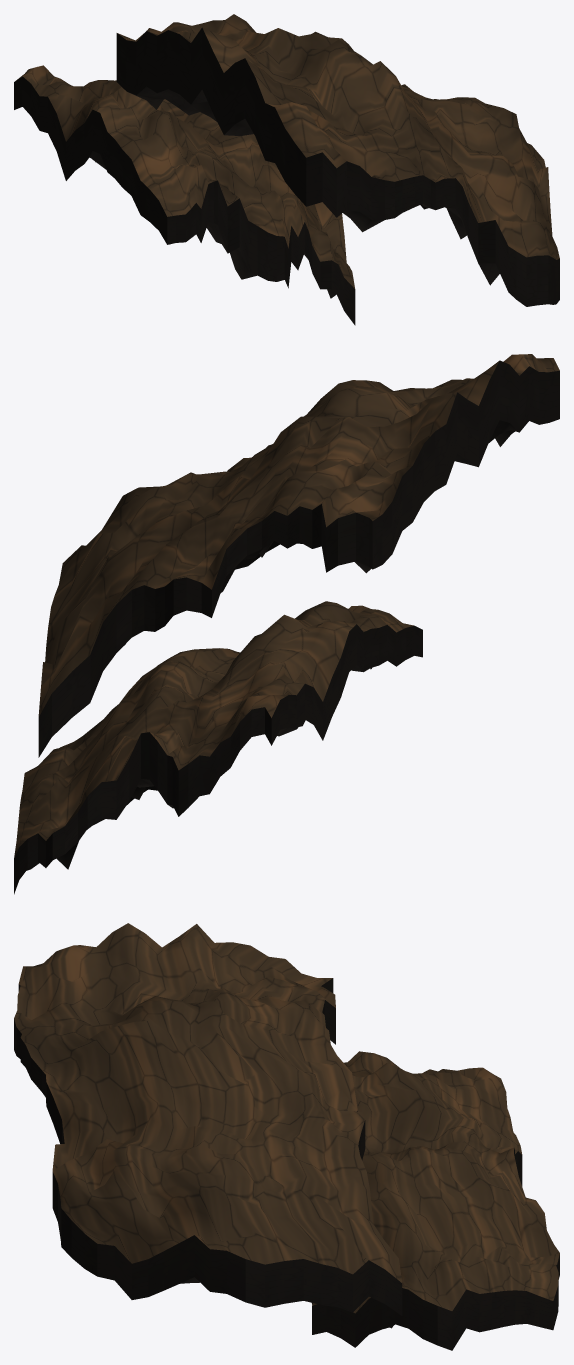
File: SM_MineBorer_RearLeft.glb
3 renders of one model, top to bottom at view 1: azimuth 30°, elevation 25°; view 2: azimuth 150°, elevation 25°; view 3: azimuth 270°, elevation 25°, orthographic. The views are drawn at different scales.
Visible parts, largest first — view 1: SM_MineBorer_RearLeft; view 2: SM_MineBorer_RearLeft; view 3: SM_MineBorer_RearLeft.
Part boxes in pixels (left/top/right/bottom): SM_MineBorer_RearLeft: left=14, top=14, right=559, bottom=325; SM_MineBorer_RearLeft: left=14, top=354, right=559, bottom=894; SM_MineBorer_RearLeft: left=14, top=923, right=559, bottom=1350.
Size of the model in its own units: 0.76 by 0.8149 by 1.22.
2 materials, 2 textured.
